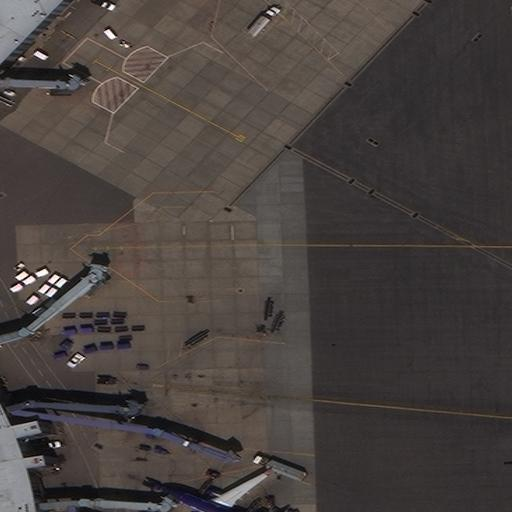Medium Civil Transport: (163, 471, 272, 512)
